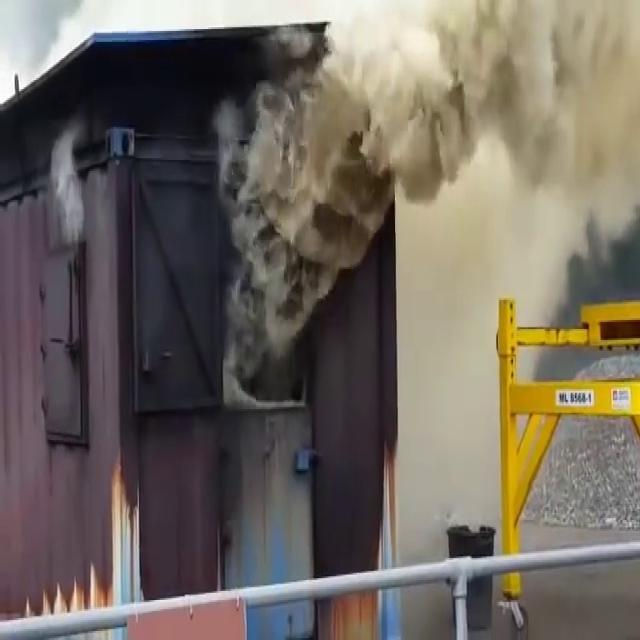Smoke: (225, 73, 640, 275), (333, 2, 640, 78)
